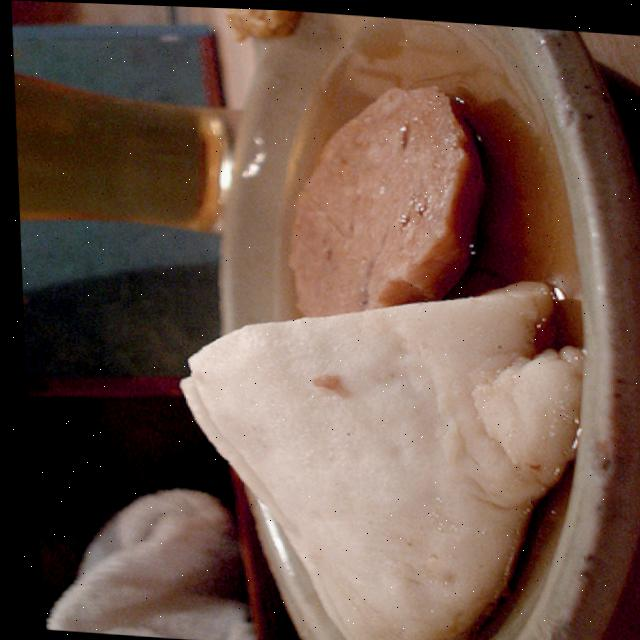汤锅炖物: (137, 60, 604, 640)
